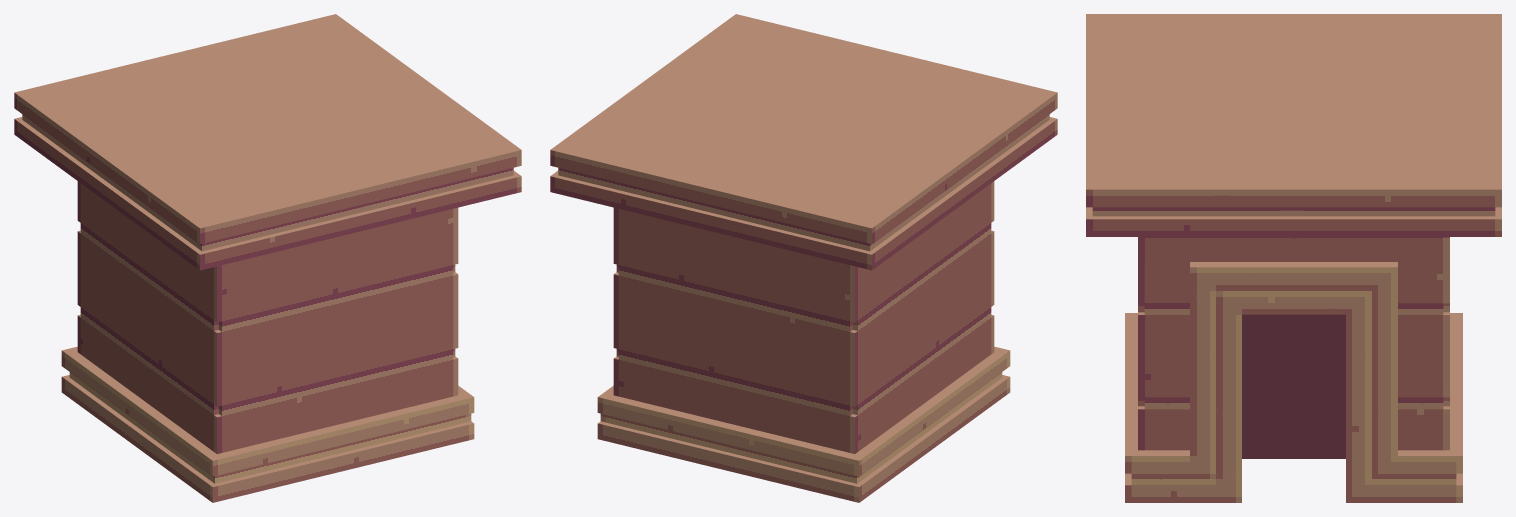
File: windmill_int_cao.fezao.glb
3 renders of one model, left to right at view 1: azimuth 30°, elevation 25°; view 2: azimuth 150°, elevation 25°; view 3: azimuth 270°, elevation 25°, orthographic. The views are drawn at different scales.
Parts seen in each view (by area): view 1: WINDMILL_INT_CAO; view 2: WINDMILL_INT_CAO; view 3: WINDMILL_INT_CAO.
Part boxes in pixels (box(x1,y1,x2,y2)): WINDMILL_INT_CAO: box(14, 14, 521, 502); WINDMILL_INT_CAO: box(550, 14, 1057, 502); WINDMILL_INT_CAO: box(1086, 14, 1501, 502).
Size of the model in its own units: 4 by 3.5 by 4.
1 material, 1 textured.
